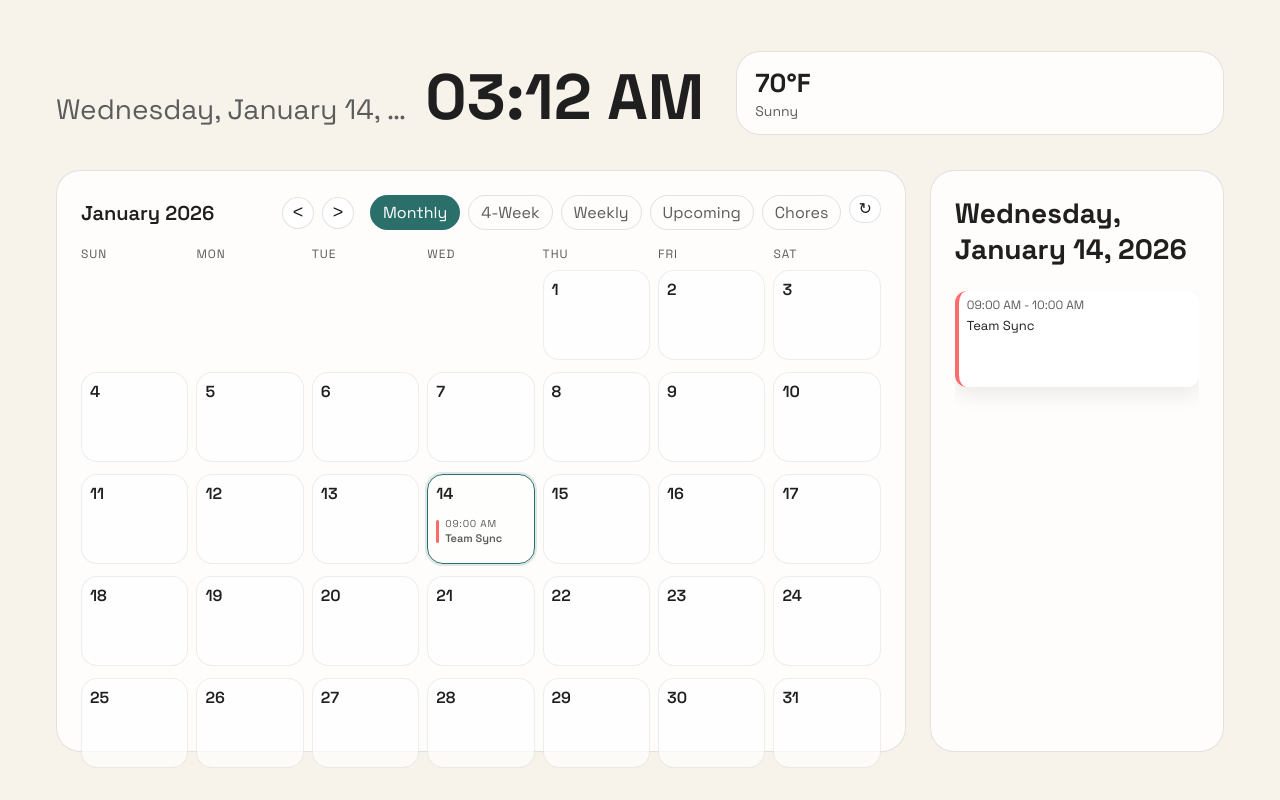
Test: App event details modal › opens and closes the modal with event details
Click the button "09:00 AM - 10:00 AM Team Sync" at coordinates (1077, 339), box top-left (955, 291), bottom-right (1199, 387)
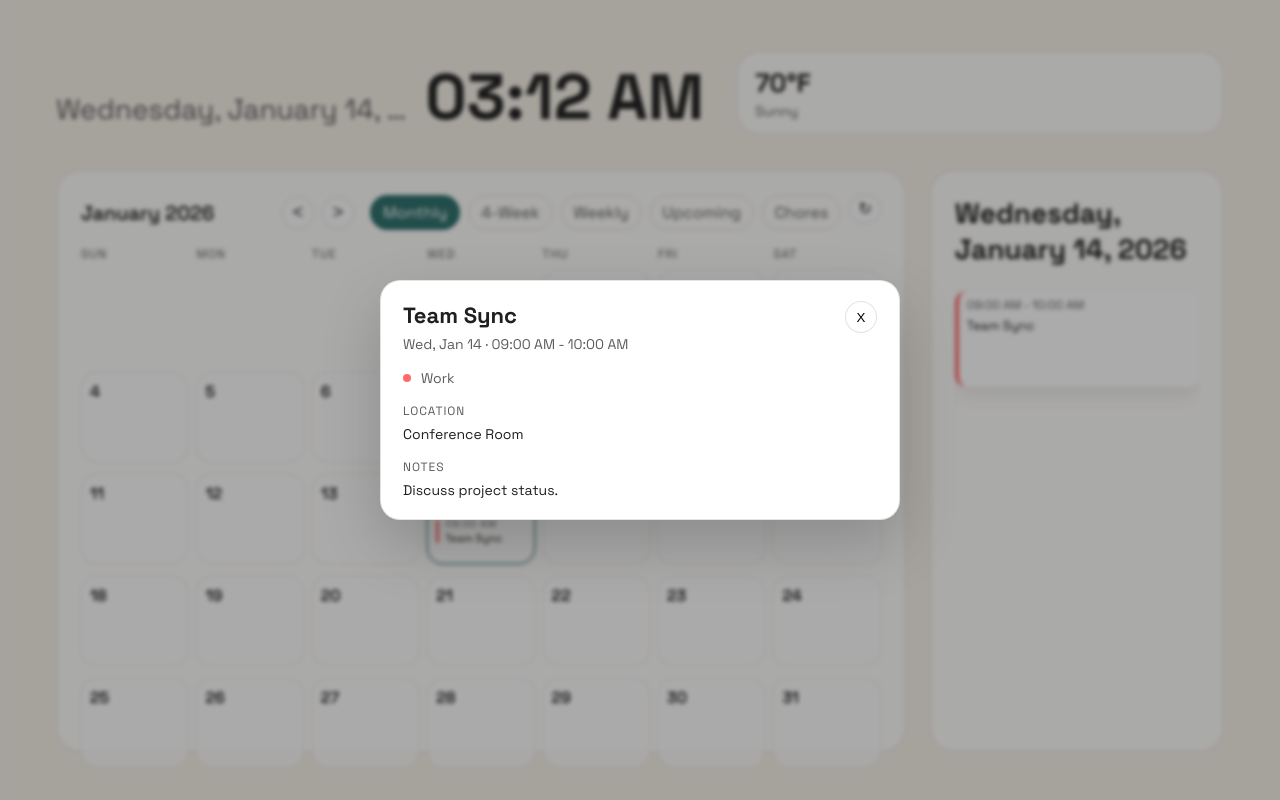
Result: the dialog is shown
Result: the heading "Team Sync" is shown at top-left (403, 301), bottom-right (517, 329)
Result: the text "Conference Room" is shown at top-left (403, 425), bottom-right (524, 443)
Click the button named "close event details" at coordinates (861, 317), box top-left (845, 301), bottom-right (877, 333)
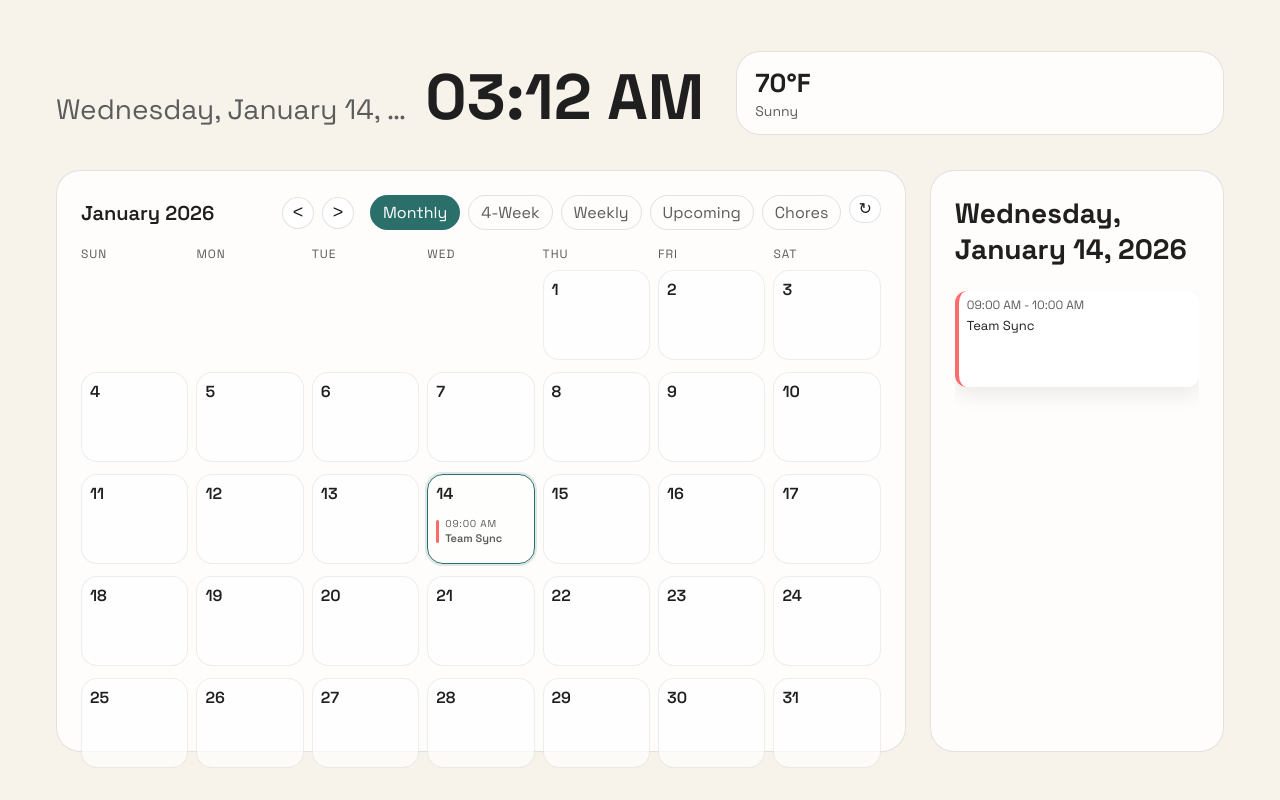
Result: the dialog is gone
